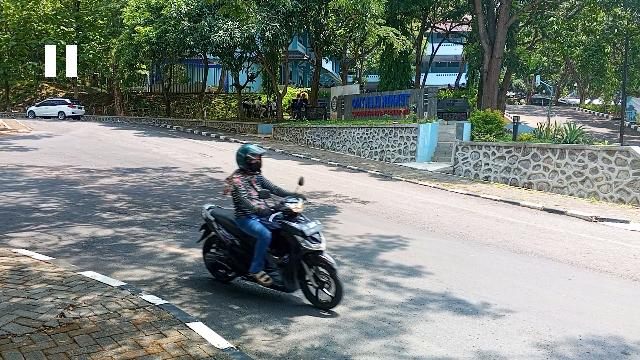helm: (238, 147, 263, 172)
motor: (196, 195, 344, 311)
